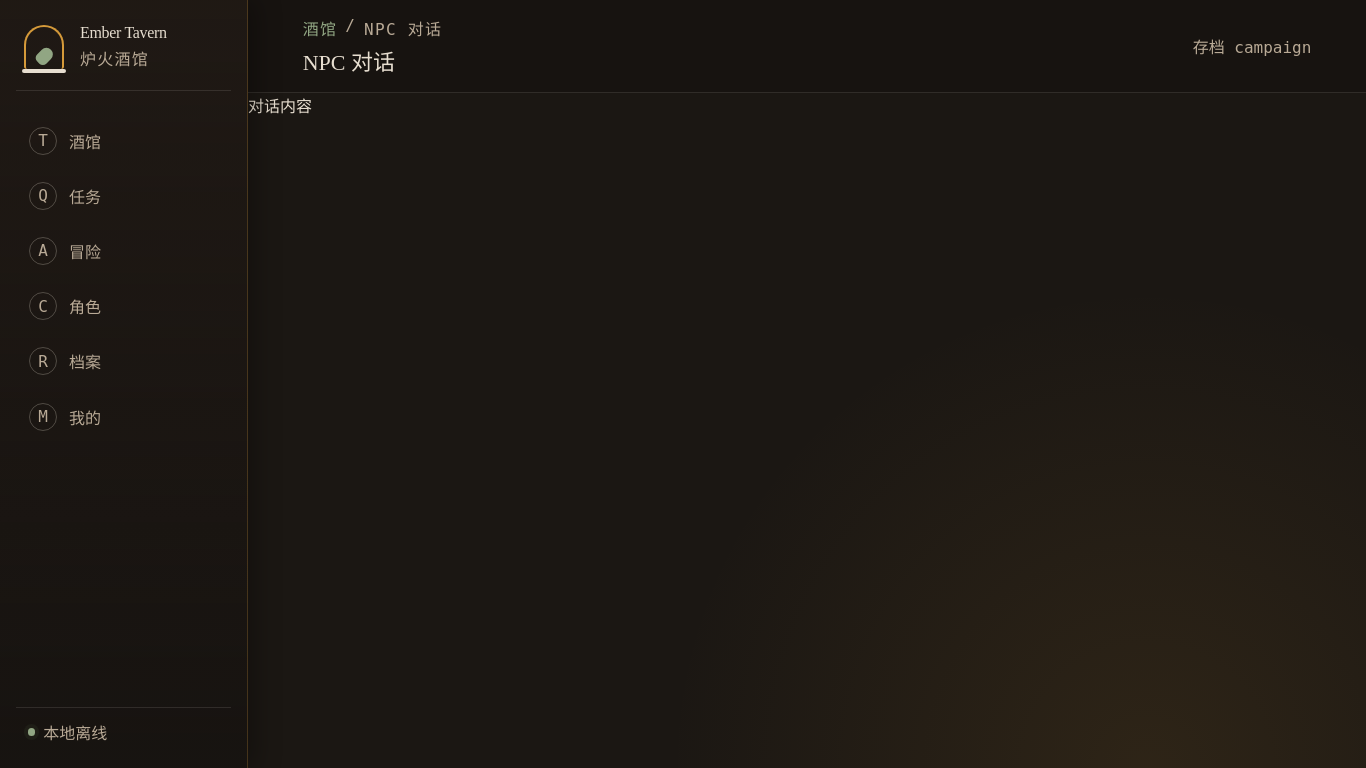
Test: AppShell titlebar › shows a campaign-preserving parent breadcrumb for entity pages
Expected: the navigation bar named "当前位置" reads "酒馆 / NPC 对话", [303,16,442,40]
Click the link "酒馆": {"x": 320, "y": 28} [303,16,337,40]
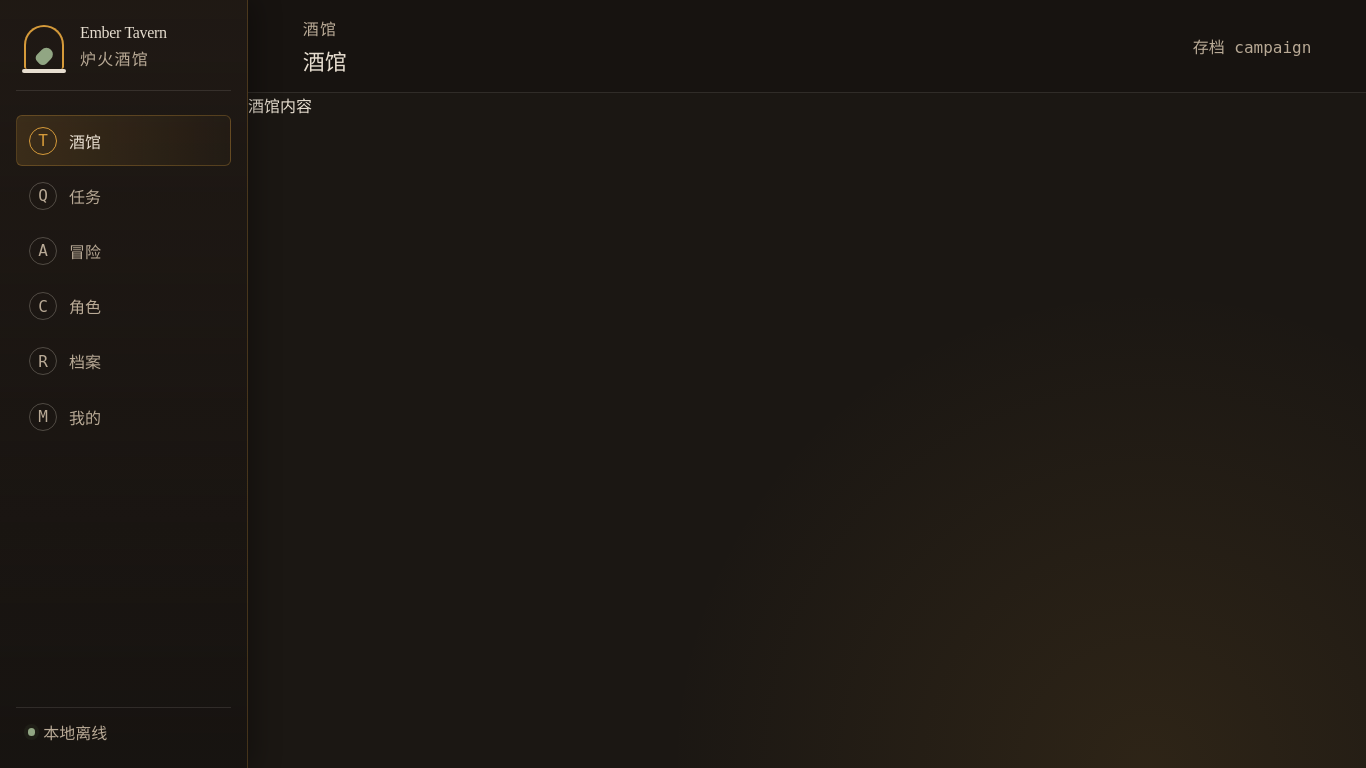
Expected: the text "存档 campaign" is shown, [1193,34,1311,58]
Result: the text "酒馆内容" is shown at [248,98,312,115]
